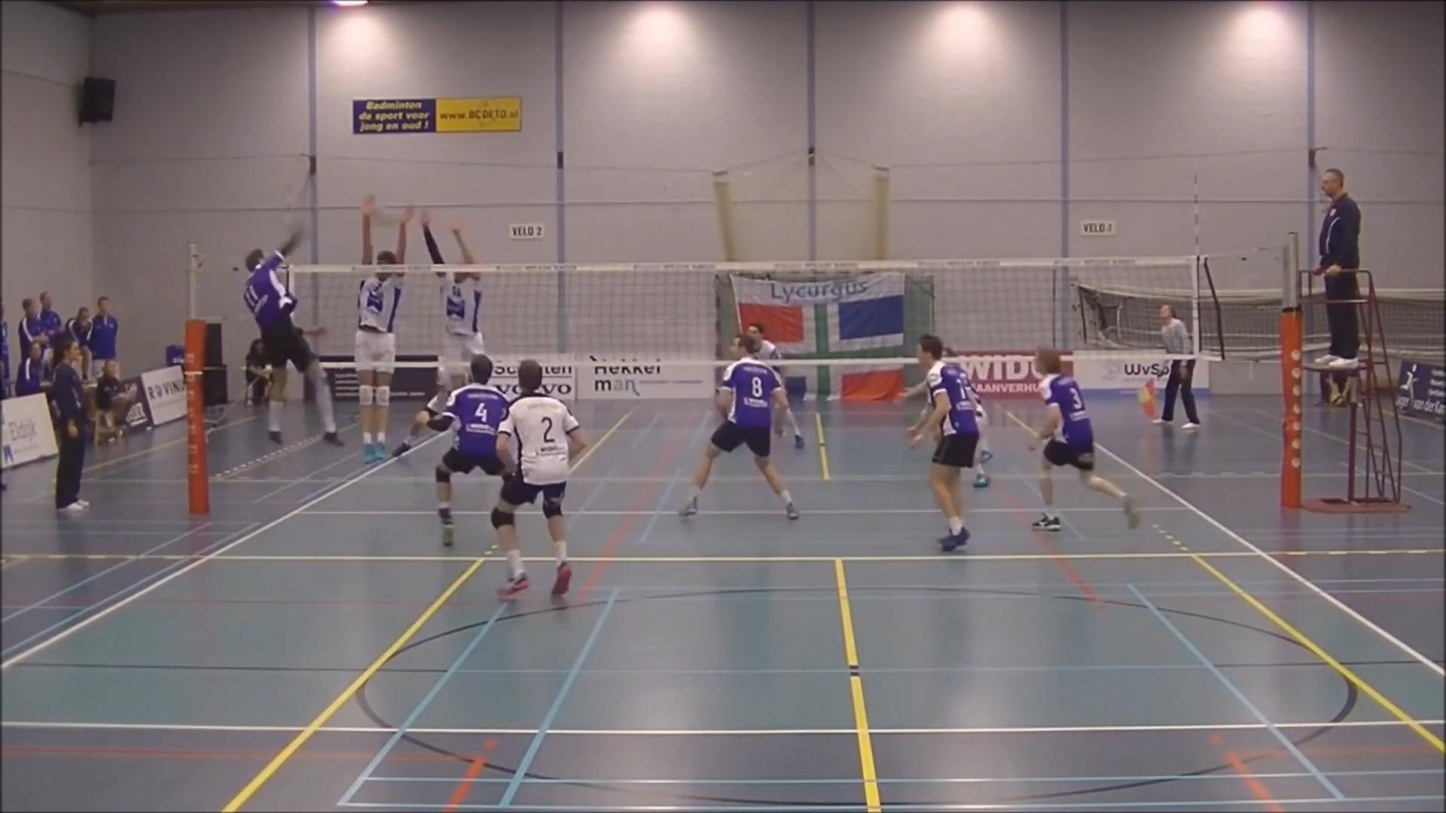Attack: (213, 215, 352, 448)
Block: (348, 191, 416, 474), (412, 207, 498, 415)
Player: (491, 359, 587, 598), (680, 333, 798, 519), (1032, 349, 1139, 531), (428, 355, 509, 545), (910, 335, 980, 552), (969, 379, 993, 488), (748, 324, 783, 377)
